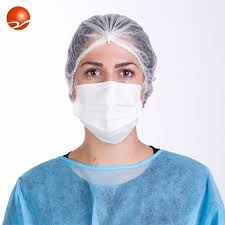mask: (69, 36, 150, 144)
